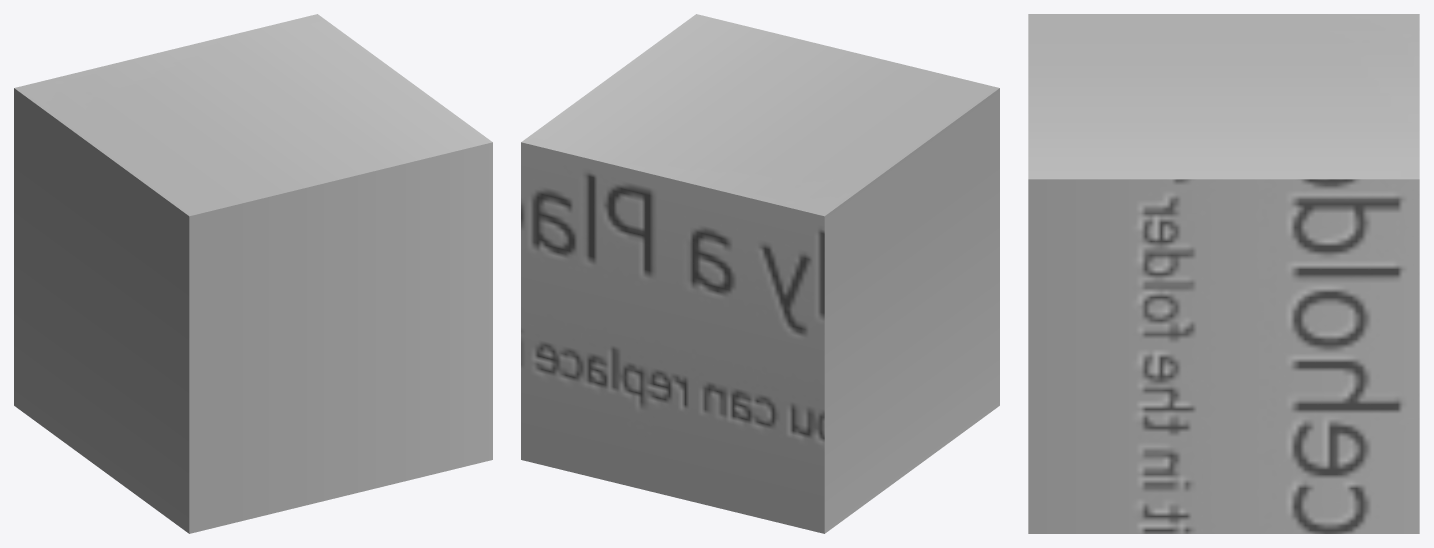
The model's file is placeholder.obj.
3 views of the same model, side by side, from view 1: azimuth 30°, elevation 25°; view 2: azimuth 150°, elevation 25°; view 3: azimuth 270°, elevation 25° (orthographic). The views are drawn at different scales.
Parts seen in each view (by area): view 1: Cube_Cube.001; view 2: Cube_Cube.001; view 3: Cube_Cube.001.
Boxes of the visible parts, x1,y1,x2,y2 form: Cube_Cube.001: (14,14,492,533); Cube_Cube.001: (521,14,999,533); Cube_Cube.001: (1028,14,1419,533).
Size of the model in its own units: 2.21 by 2.21 by 2.21.
1 material, 1 textured.
